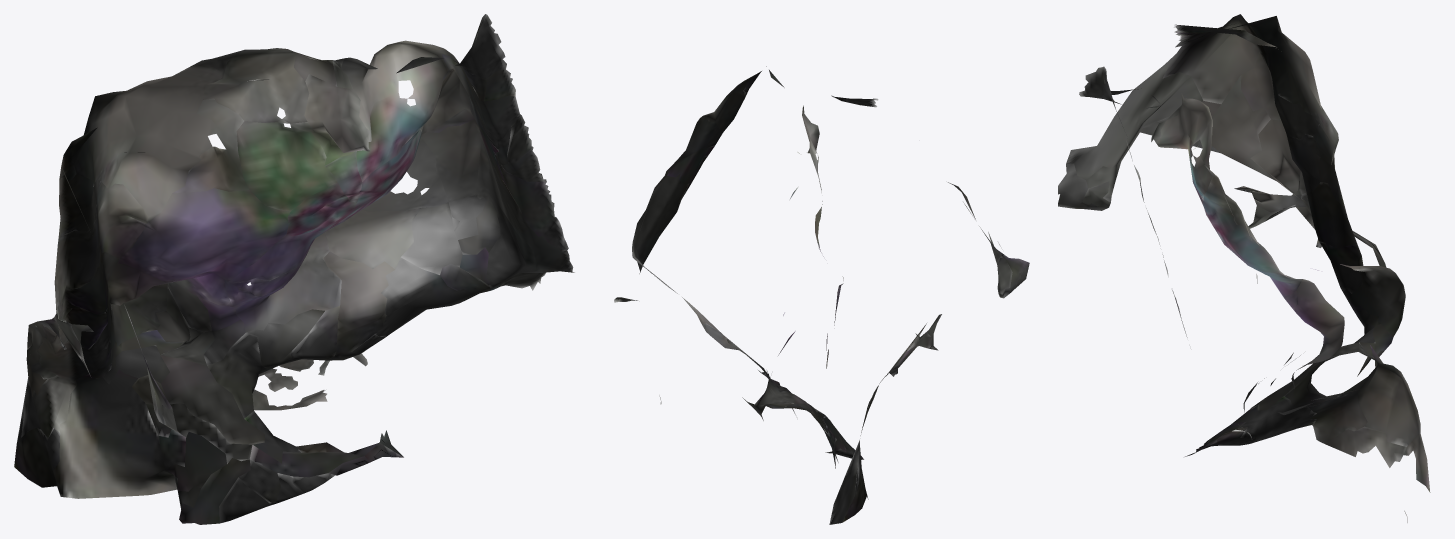
The model's file is hall.glb.
3 renders of one model, left to right at view 1: azimuth 30°, elevation 25°; view 2: azimuth 150°, elevation 25°; view 3: azimuth 270°, elevation 25°, orthographic. The views are drawn at different scales.
Size of the model in its own units: 0.3582 by 0.3492 by 0.2681.
Materials: 1 (1 with a texture image).
